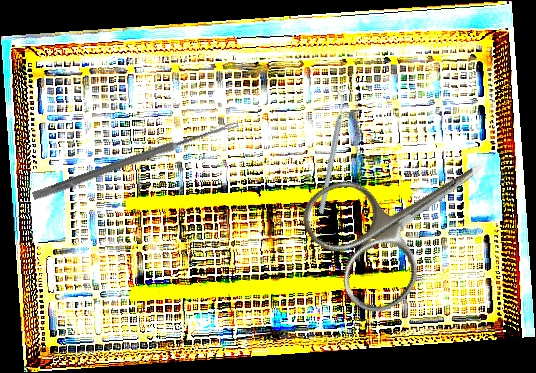Chopper: (275, 89, 386, 216)
Iris Scissors: (292, 108, 521, 324)
Surgical Spoon: (31, 118, 240, 202)
